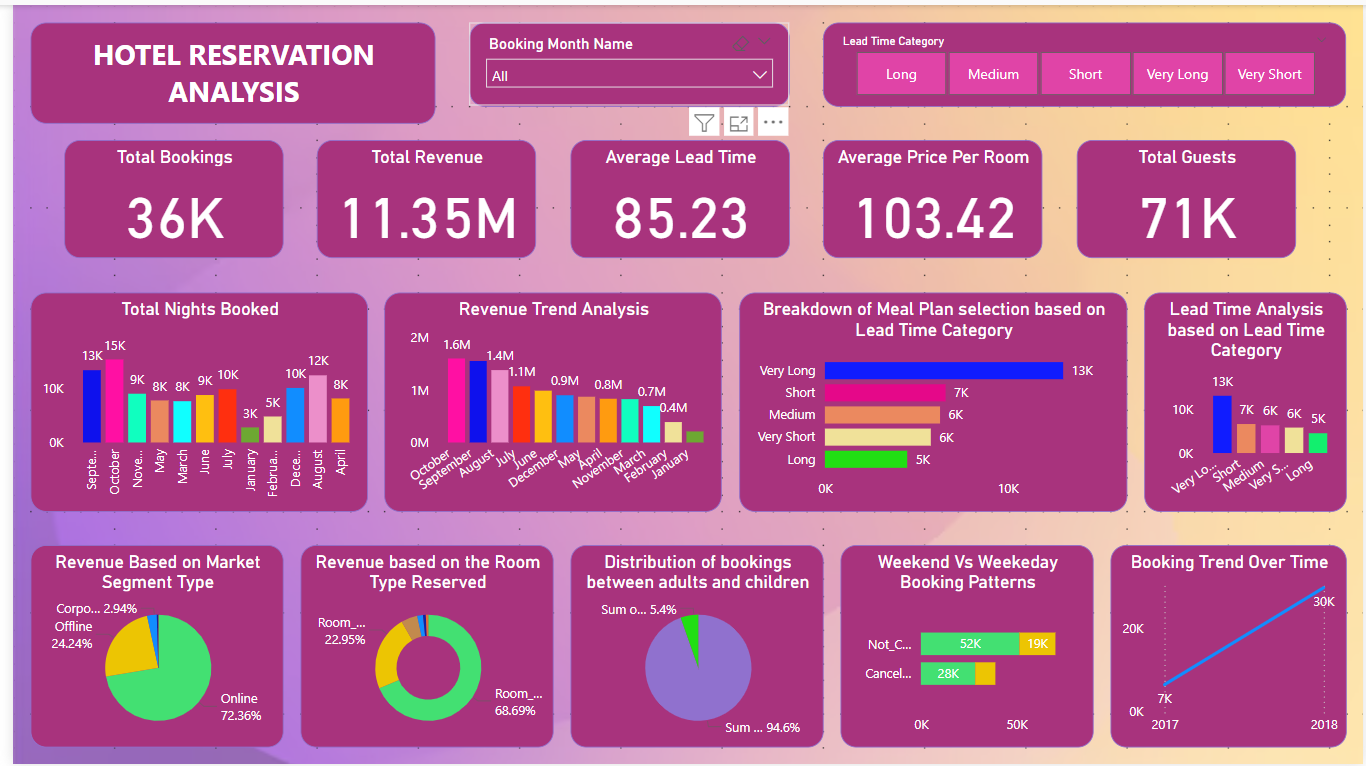

The page's visual inventory and layout, read from the dashboard file:
{"tool":"powerbi","page":{"name":"Page 1","canvas":[1280,720],"ordinal":0},"visuals":[{"type":"columnChart","title":"Total Nights Booked","fields":{"Y":["Sum(Hotel Reservations.Total Nights Booked)"],"Category":["Hotel Reservations.Booking Month Name"]},"box":[16,272,320,208],"z":0},{"type":"columnChart","title":"Revenue Trend Analysis","fields":{"Y":["Sum(Hotel Reservations.Revenue per Booking)"],"Category":["Hotel Reservations.Booking Month Name"]},"box":[352,272,320,208],"z":1000},{"type":"pieChart","title":"Revenue Based on Market Segment Type","fields":{"Category":["Hotel Reservations.market_segment_type"],"Y":["Sum(Hotel Reservations.Revenue per Booking)"]},"box":[16,512,240,192],"z":2000},{"type":"lineChart","title":"Booking Trend Over Time","fields":{"Y":["CountNonNull(Hotel Reservations.Booking_ID)"],"Category":["Hotel Reservations.Booking Date.Variation.Date Hierarchy.Year"]},"box":[1040,512,224,192],"z":3000},{"type":"donutChart","title":"Revenue based on the Room Type Reserved","fields":{"Category":["Hotel Reservations.room_type_reserved"],"Y":["Sum(Hotel Reservations.Revenue per Booking)"]},"box":[272,512,240,192],"z":4000},{"type":"barChart","title":"Weekend Vs Weekeday Booking Patterns","fields":{"Category":["Hotel Reservations.booking_status"],"Y":["Sum(Hotel Reservations.no_of_week_nights)","Sum(Hotel Reservations.no_of_weekend_nights)"]},"box":[784,512,240,192],"z":5000},{"type":"pieChart","title":"Distribution of bookings between adults and children","fields":{"Y":["Sum(Hotel Reservations.no_of_adults)","Sum(Hotel Reservations.no_of_children)"]},"box":[528,512,240,192],"z":5001},{"type":"barChart","title":"Breakdown of Meal Plan selection based on Lead Time Category","fields":{"Category":["Hotel Reservations.Lead Time Category"],"Y":["CountNonNull(Hotel Reservations.type_of_meal_plan)"]},"box":[688,272,368,208],"z":5002},{"type":"columnChart","title":"Lead Time Analysis based on Lead Time Category","fields":{"Category":["Hotel Reservations.Lead Time Category"],"Y":["CountNonNull(Hotel Reservations.Booking_ID)"]},"box":[1072,272,192,208],"z":5003},{"type":"textbox","box":[16,16,384,96],"z":5004},{"type":"card","title":"Total Bookings","fields":{"Values":["Hotel Reservations.Total Bookings"]},"box":[48,128,208,112],"z":5005},{"type":"card","title":"Total Revenue","fields":{"Values":["Hotel Reservations.Total Revenue"]},"box":[288,128,208,112],"z":5006},{"type":"card","title":"Average Lead Time","fields":{"Values":["Hotel Reservations.Average Lead Time"]},"box":[528,128,208,112],"z":5007},{"type":"card","title":"Average Price Per Room","fields":{"Values":["Hotel Reservations.Average Price Per Room"]},"box":[768,128,208,112],"z":5008},{"type":"card","title":"Total Guests","fields":{"Values":["Sum(Hotel Reservations.Total Guests)"]},"box":[1008,128,208,112],"z":5009},{"type":"slicer","fields":{"Values":["Hotel Reservations.Booking Month Name"]},"box":[432,16,304,80],"z":5010},{"type":"slicer","fields":{"Values":["Hotel Reservations.Lead Time Category"]},"box":[768,16,496,80],"z":5011}]}

Visuals, with their boxes in screenshot pixels (x1, y1, x2, y2), scaled from the page's 1280x720 canvas onto the 1366x766 screenshot:
"Total Nights Booked" columnChart: region(17, 289, 359, 511)
"Revenue Trend Analysis" columnChart: region(376, 289, 717, 511)
"Revenue Based on Market Segment Type" pieChart: region(17, 545, 273, 749)
"Booking Trend Over Time" lineChart: region(1110, 545, 1349, 749)
"Revenue based on the Room Type Reserved" donutChart: region(290, 545, 546, 749)
"Weekend Vs Weekeday Booking Patterns" barChart: region(837, 545, 1093, 749)
"Distribution of bookings between adults and children" pieChart: region(563, 545, 820, 749)
"Breakdown of Meal Plan selection based on Lead Time Category" barChart: region(734, 289, 1127, 511)
"Lead Time Analysis based on Lead Time Category" columnChart: region(1144, 289, 1349, 511)
textbox: region(17, 17, 427, 119)
"Total Bookings" card: region(51, 136, 273, 255)
"Total Revenue" card: region(307, 136, 529, 255)
"Average Lead Time" card: region(563, 136, 785, 255)
"Average Price Per Room" card: region(820, 136, 1042, 255)
"Total Guests" card: region(1076, 136, 1298, 255)
slicer - Hotel Reservations.Booking Month Name: region(461, 17, 785, 102)
slicer - Hotel Reservations.Lead Time Category: region(820, 17, 1349, 102)
